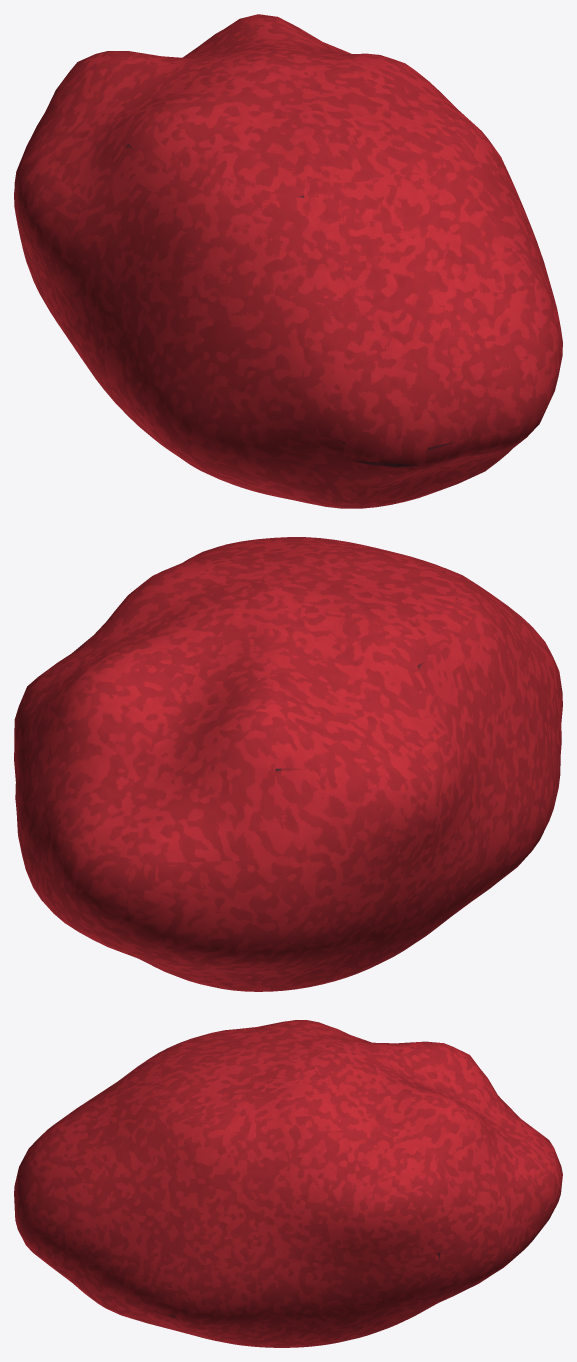
The model's file is rock1.fbx.
3 renders of one model, top to bottom at view 1: azimuth 30°, elevation 25°; view 2: azimuth 150°, elevation 25°; view 3: azimuth 270°, elevation 25°, orthographic. The views are drawn at different scales.
Parts seen in each view (by area): view 1: Sphere; view 2: Sphere; view 3: Sphere.
Part boxes in pixels (x1,y1,x2,y2): Sphere: [14, 14, 562, 508]; Sphere: [14, 537, 562, 991]; Sphere: [14, 1020, 562, 1347].
Bounding box in the file's own units: 155 × 141 × 247.
